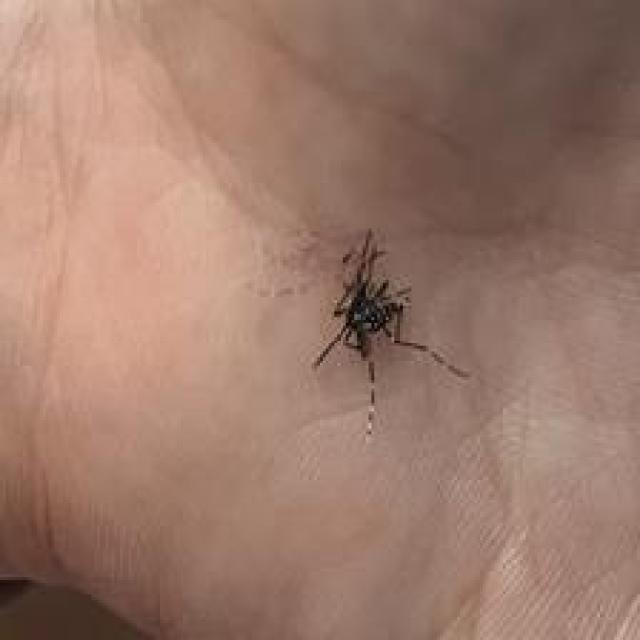Aedes albopictus: (310, 227, 470, 436)
